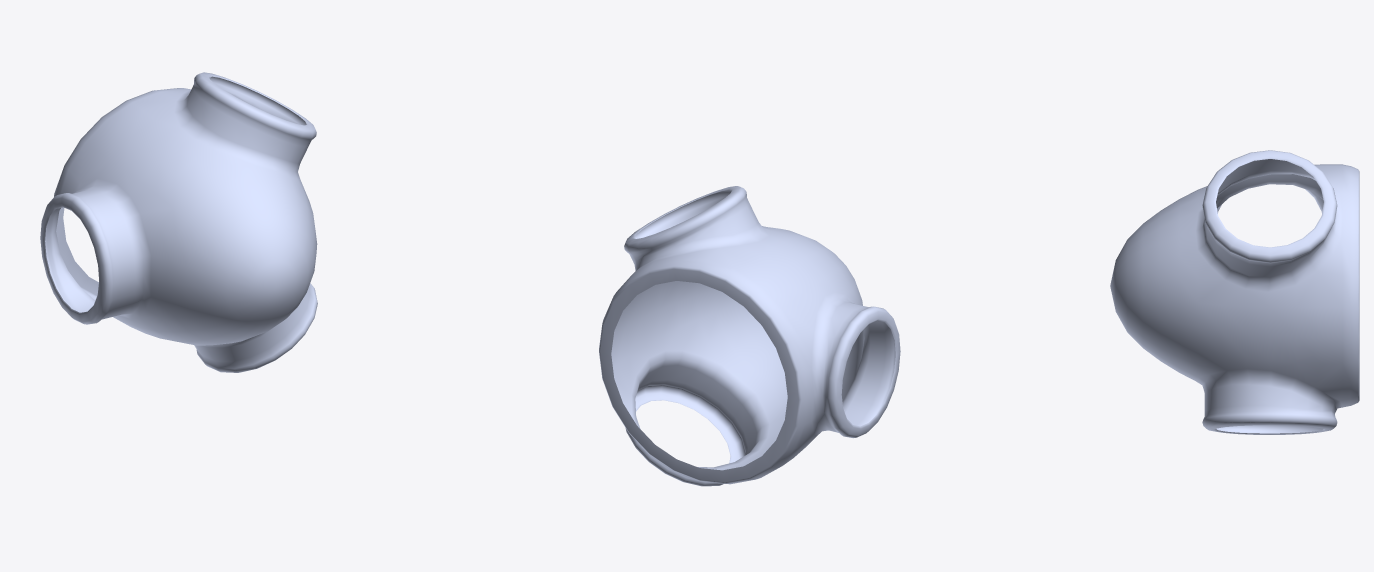
File: windpowergenerator_white_2001_03.obj
3 renders of one model, left to right at view 1: azimuth 30°, elevation 25°; view 2: azimuth 150°, elevation 25°; view 3: azimuth 270°, elevation 25°, orthographic.
Parts seen in each view (by area): view 1: polySurface161; view 2: polySurface161; view 3: polySurface161.
Part boxes in pixels (x1=…): polySurface161: x1=40, y1=72, x2=317, y2=372; polySurface161: x1=599, y1=186, x2=900, y2=486; polySurface161: x1=1110, y1=150, x2=1359, y2=434.
Size of the model in its own units: 1133 by 1133 by 471.
1 material, 1 textured.
